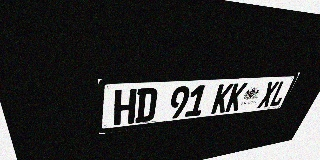1: (185, 85, 208, 117)
9: (168, 86, 191, 119)
D: (135, 88, 158, 123)
H: (114, 89, 137, 126)
K: (211, 83, 234, 114), (225, 83, 248, 112)
L: (268, 80, 291, 107)
X: (257, 81, 280, 108)
